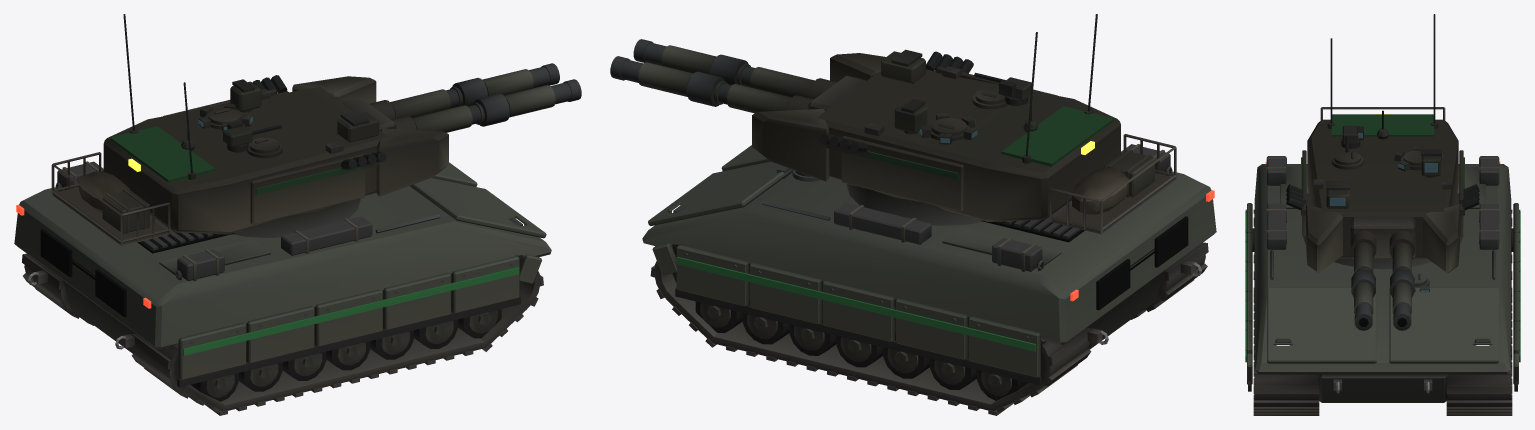
The model's file is u_heavy.glb.
3 renders of one model, left to right at view 1: azimuth 30°, elevation 25°; view 2: azimuth 150°, elevation 25°; view 3: azimuth 270°, elevation 25°, orthographic. The views are drawn at different scales.
Parts seen in each view (by area): view 1: Heavy_turret, Heavy_Walls, Heavy_Details, Heavy_Foundation, Heavy_Frame; view 2: Heavy_turret, Heavy_Walls, Heavy_Details, Heavy_Foundation, Heavy_Frame; view 3: Heavy_Walls, Heavy_turret, Heavy_Details, Heavy_Foundation.
Boxes of the visible parts, x1,y1,x2,y2 form: Heavy_turret: (51, 14, 581, 245); Heavy_Walls: (14, 162, 551, 379); Heavy_Details: (16, 161, 543, 415); Heavy_Foundation: (24, 254, 539, 411); Heavy_Frame: (176, 282, 519, 397); Heavy_turret: (610, 14, 1176, 234); Heavy_Walls: (642, 145, 1216, 377); Heavy_Details: (650, 144, 1214, 415); Heavy_Foundation: (654, 242, 1205, 410); Heavy_Frame: (676, 272, 1043, 396); Heavy_Walls: (1247, 164, 1518, 402); Heavy_turret: (1286, 14, 1479, 330); Heavy_Details: (1245, 156, 1520, 415); Heavy_Foundation: (1254, 212, 1511, 400).
Size of the model in its own units: 1.57 by 0.9923 by 0.856.
